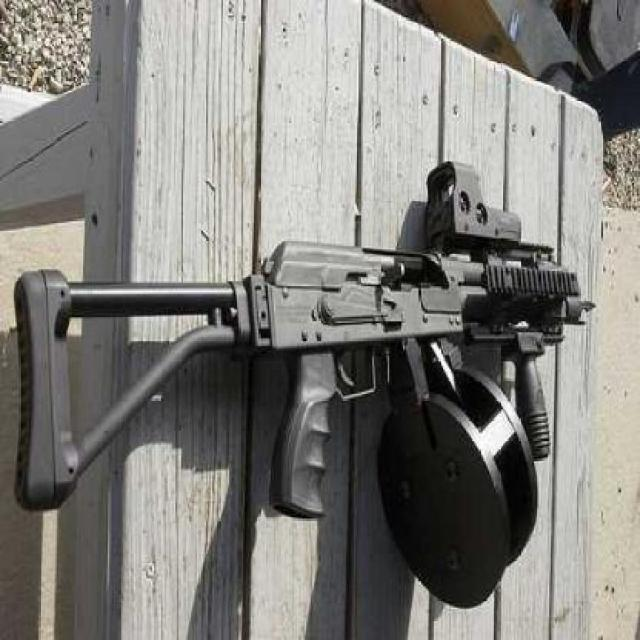weapon: (16, 158, 596, 609)
